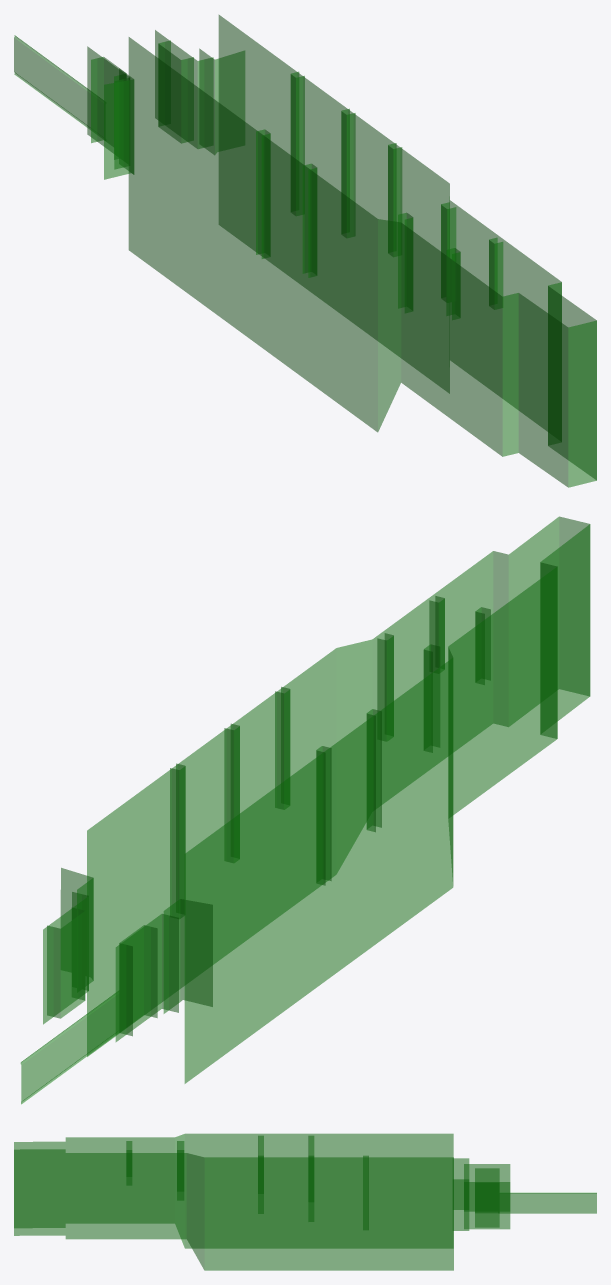
The model's file is Wall01.obj.
3 renders of one model, top to bottom at view 1: azimuth 30°, elevation 25°; view 2: azimuth 150°, elevation 25°; view 3: azimuth 270°, elevation 25°, orthographic. The views are drawn at different scales.
Size of the model in its own units: 61.1 by 88.25 by 405.
